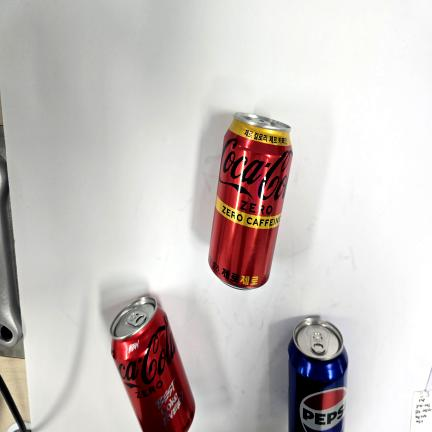can_coke_decaf: (208, 112, 293, 290)
can_coke_zero: (110, 296, 195, 432)
can_pepsi: (288, 317, 348, 432)
